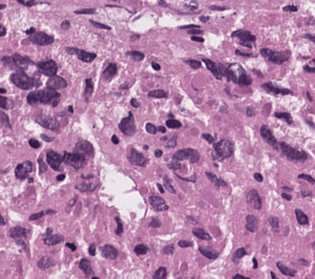nucleus: (27, 87, 59, 106), (279, 142, 306, 160), (66, 47, 96, 62), (260, 48, 288, 63), (118, 112, 136, 135), (62, 152, 86, 169), (213, 139, 233, 159), (202, 58, 221, 79), (232, 30, 255, 47), (172, 148, 199, 162), (261, 82, 291, 94), (74, 140, 93, 158), (127, 148, 146, 166), (260, 125, 276, 146), (36, 115, 58, 130), (37, 60, 57, 76), (205, 171, 226, 186), (29, 32, 53, 45), (46, 150, 61, 170), (246, 189, 261, 209), (149, 195, 168, 210), (276, 262, 296, 276), (47, 75, 66, 89), (79, 258, 93, 276), (192, 227, 211, 240), (101, 244, 117, 259), (245, 214, 258, 232), (199, 246, 218, 258), (83, 78, 93, 100), (43, 234, 63, 245), (274, 112, 292, 124), (232, 247, 246, 262), (103, 63, 116, 79), (295, 208, 308, 224), (37, 256, 53, 269), (164, 176, 175, 193), (237, 72, 251, 85), (75, 183, 96, 191), (152, 266, 166, 278), (268, 216, 279, 231), (126, 51, 144, 60), (148, 89, 166, 97), (298, 174, 314, 183), (114, 216, 122, 234), (167, 159, 180, 170), (166, 119, 181, 128), (29, 211, 44, 220), (145, 122, 157, 133), (134, 244, 147, 254), (186, 59, 200, 68), (38, 158, 46, 173), (178, 239, 192, 247), (166, 136, 176, 147), (162, 244, 173, 254), (202, 133, 213, 142), (149, 218, 160, 227), (236, 50, 252, 56), (88, 243, 95, 255), (130, 98, 139, 107), (29, 139, 39, 147), (281, 192, 291, 200), (303, 34, 314, 41), (41, 134, 52, 141), (191, 36, 203, 42), (246, 107, 254, 116), (304, 65, 314, 72), (65, 243, 75, 250), (151, 62, 159, 70), (154, 149, 162, 157), (254, 173, 262, 181), (156, 183, 163, 192), (69, 196, 76, 205), (187, 216, 196, 223), (111, 135, 118, 143), (252, 257, 257, 268), (306, 92, 312, 101), (233, 274, 246, 278), (301, 191, 311, 196), (45, 209, 55, 214), (130, 34, 138, 40), (157, 126, 165, 132), (56, 174, 64, 180), (282, 186, 291, 190), (46, 228, 51, 235), (271, 272, 276, 277), (68, 106, 72, 111), (168, 114, 172, 117)
